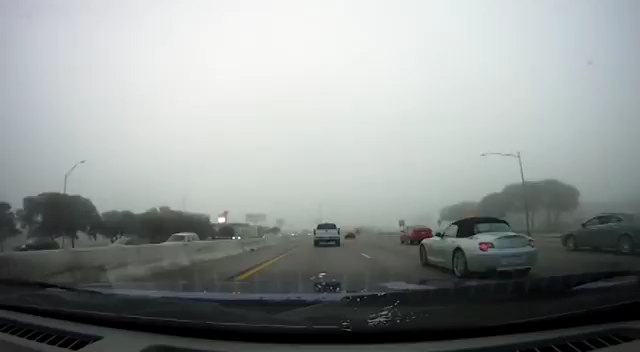car: (419, 216, 538, 277), (561, 212, 640, 255), (12, 236, 60, 258), (163, 232, 201, 253), (399, 224, 434, 244), (313, 222, 341, 246), (231, 232, 245, 242), (344, 231, 356, 240)
